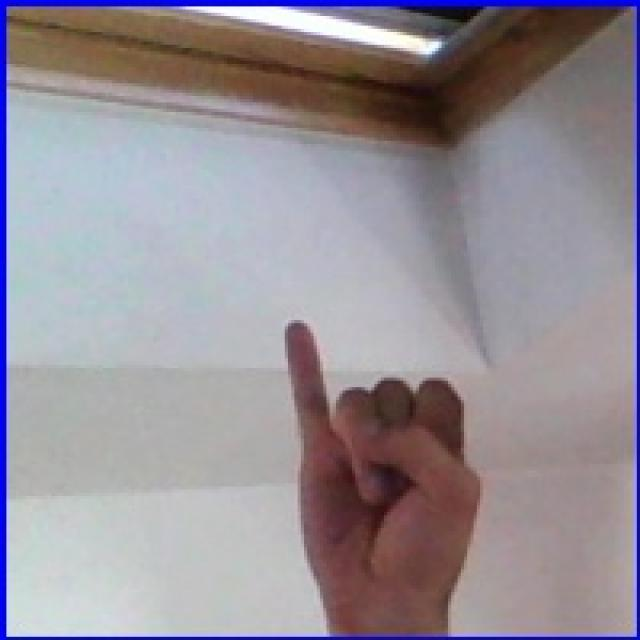Letra I: (243, 296, 520, 626)
